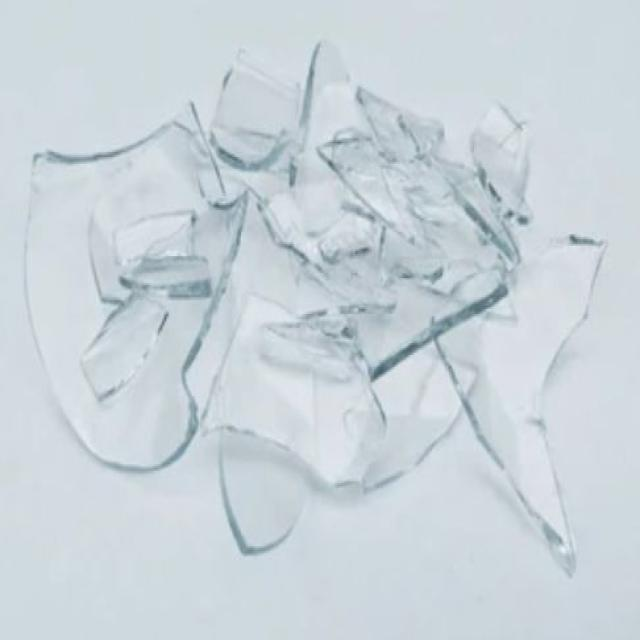electronic: (22, 32, 609, 582)
